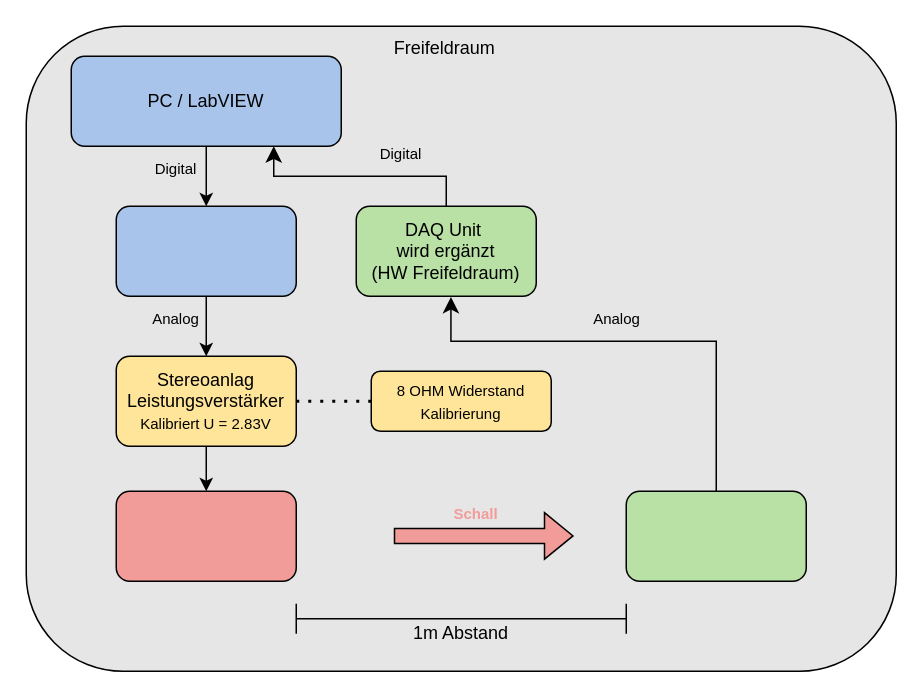
The diagram is 923 pixels wide and 698 high, and some of its shapes have lost their labels. The centre of each missing label's shape, as x and y in pixels:
"Audio Interface wird ergänzt (HW Freifeldraum)" goes at (x=205, y=250).
"DML Flachlautsprecher" goes at (x=205, y=535).
"Messmikrofon" goes at (x=715, y=535).
